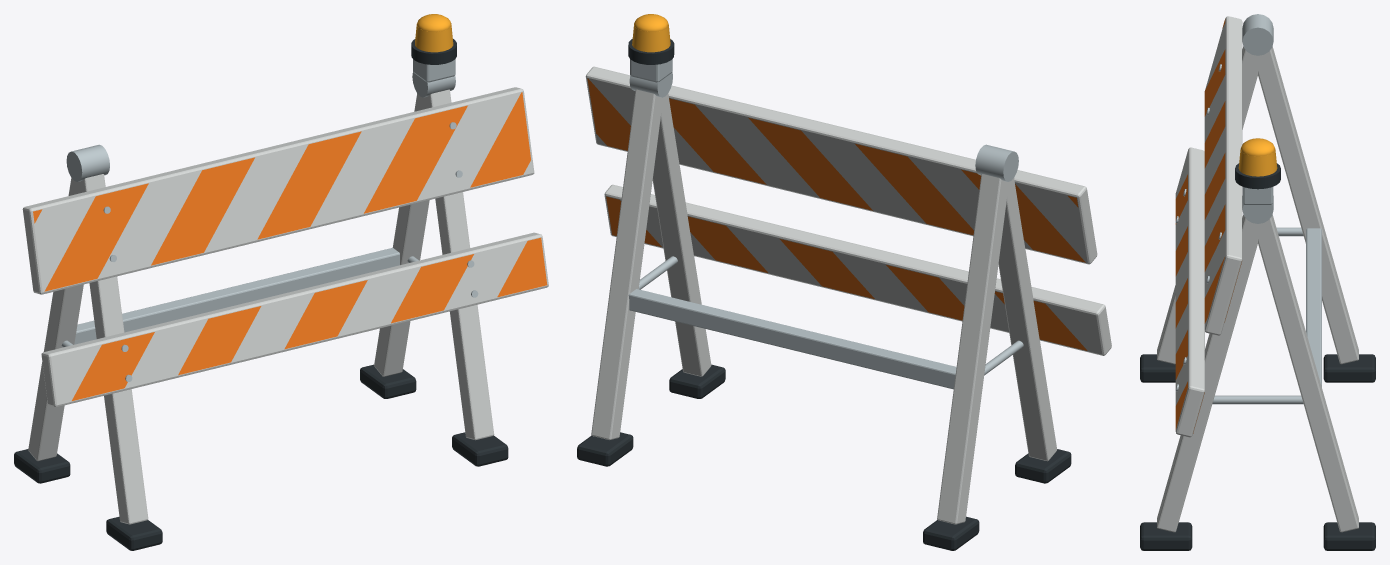
Rendered from traffic_barrier.glb.
3 views of the same model, side by side, from view 1: azimuth 30°, elevation 25°; view 2: azimuth 150°, elevation 25°; view 3: azimuth 270°, elevation 25° (orthographic).
Visible parts, largest first — view 1: Upper barricade panel white board, Lower barricade panel white board, Rear frame cross brace, Left front frame leg, Right front frame leg, Upper barricade panel front orange stripe.003, Upper barricade panel front orange stripe.002, Upper barricade panel front orange stripe.001, Upper barricade panel front orange stripe.004, Left rear frame leg, Right rear frame leg, Lower barricade panel front orange stripe.001 (+13 smaller); view 2: Upper barricade panel white board, Lower barricade panel white board, Left rear frame leg, Right rear frame leg, Rear frame cross brace, Left front frame leg, Right front frame leg, Upper barricade panel back orange stripe.003, Upper barricade panel back orange stripe.002, Upper barricade panel back orange stripe.004, Upper barricade panel back orange stripe.001, Lower barricade panel back orange stripe.002 (+12 smaller); view 3: Upper barricade panel white board, Right rear frame leg, Lower barricade panel white board, Left rear frame leg, Right front frame leg, Rear frame cross brace, Left front frame leg, Non-slip foot pad.001, Non-slip foot pad.002, Non-slip foot pad.003, Folding frame hinge, Folding spreader brace.001 (+15 smaller).
Part boxes in pixels (x1,y1,x2,y2): Upper barricade panel white board: (22, 87, 534, 294); Lower barricade panel white board: (41, 232, 548, 407); Rear frame cross brace: (74, 247, 399, 344); Left front frame leg: (76, 174, 148, 524); Right front frame leg: (422, 89, 494, 440); Upper barricade panel front orange stripe.003: (257, 131, 361, 239); Upper barricade panel front orange stripe.002: (151, 157, 254, 265); Upper barricade panel front orange stripe.001: (44, 183, 148, 291); Upper barricade panel front orange stripe.004: (364, 105, 467, 213); Left rear frame leg: (28, 178, 83, 461); Right rear frame leg: (374, 93, 429, 376); Lower barricade panel front orange stripe.001: (178, 306, 261, 375); Upper barricade panel white board: (585, 66, 1097, 264); Lower barricade panel white board: (604, 184, 1111, 355); Left rear frame leg: (937, 174, 1008, 524); Right rear frame leg: (591, 89, 662, 439); Rear frame cross brace: (628, 289, 956, 389); Left front frame leg: (998, 178, 1057, 461); Right front frame leg: (652, 93, 711, 376); Upper barricade panel back orange stripe.003: (748, 117, 872, 210); Upper barricade panel back orange stripe.002: (855, 144, 973, 235); Upper barricade panel back orange stripe.004: (669, 98, 766, 184); Upper barricade panel back orange stripe.001: (961, 169, 1085, 262); Lower barricade panel back orange stripe.002: (780, 239, 874, 298); Upper barricade panel white board: (1204, 16, 1242, 335); Right rear frame leg: (1254, 215, 1358, 532); Lower barricade panel white board: (1175, 147, 1204, 437); Left rear frame leg: (1254, 46, 1358, 364); Right front frame leg: (1157, 215, 1261, 532); Rear frame cross brace: (1306, 228, 1321, 386); Left front frame leg: (1157, 46, 1262, 364); Non-slip foot pad.001: (1323, 354, 1375, 382); Non-slip foot pad.002: (1140, 522, 1192, 550); Non-slip foot pad.003: (1323, 522, 1375, 550); Folding frame hinge: (1242, 14, 1273, 55); Folding spreader brace.001: (1212, 395, 1303, 404).
Bounding box in the file's own units: 1.86 × 1.45 × 0.77.
